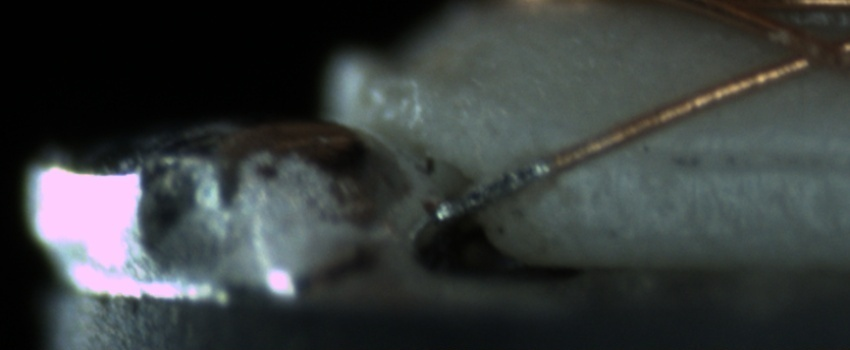CL: (756, 17, 842, 81)
DL: (610, 120, 847, 191)
TS: (428, 156, 549, 224)
